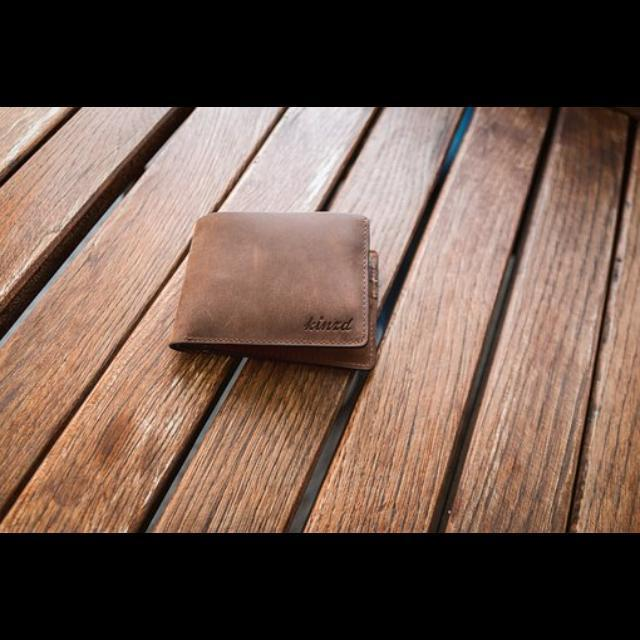wallet: (160, 183, 426, 385)
